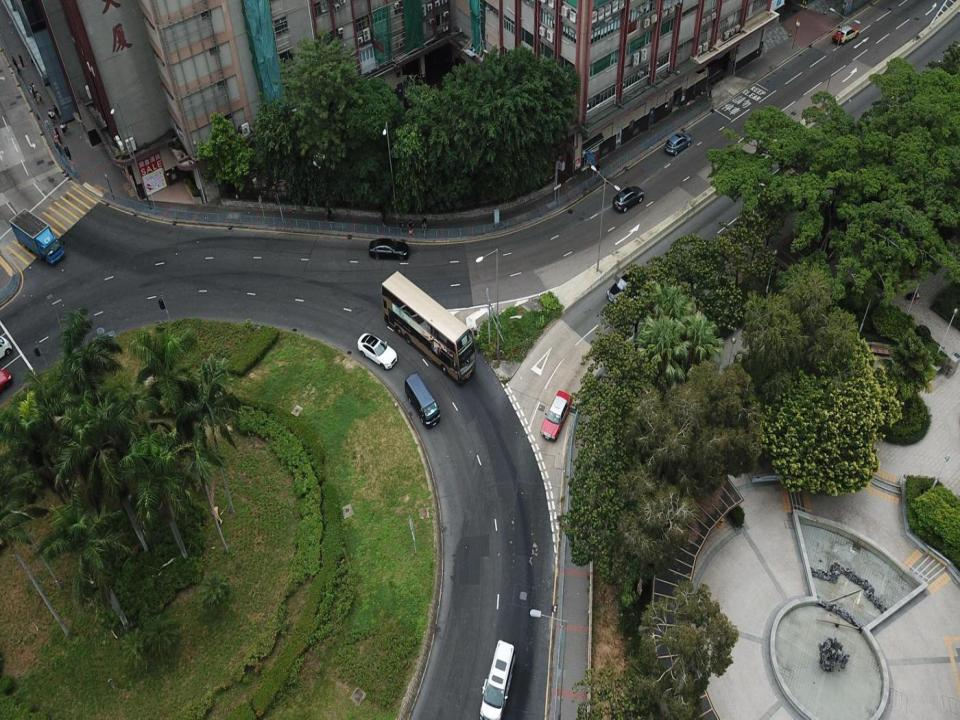bus: (380, 270, 477, 388)
car: (536, 388, 574, 441), (356, 332, 398, 372), (604, 267, 644, 304), (367, 235, 410, 260), (611, 185, 645, 212), (664, 129, 693, 157), (831, 23, 860, 49)
truck: (8, 207, 67, 266)
van: (479, 639, 518, 719), (403, 371, 442, 429)
